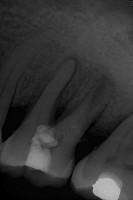Dental Caries: (49, 57, 111, 125)
